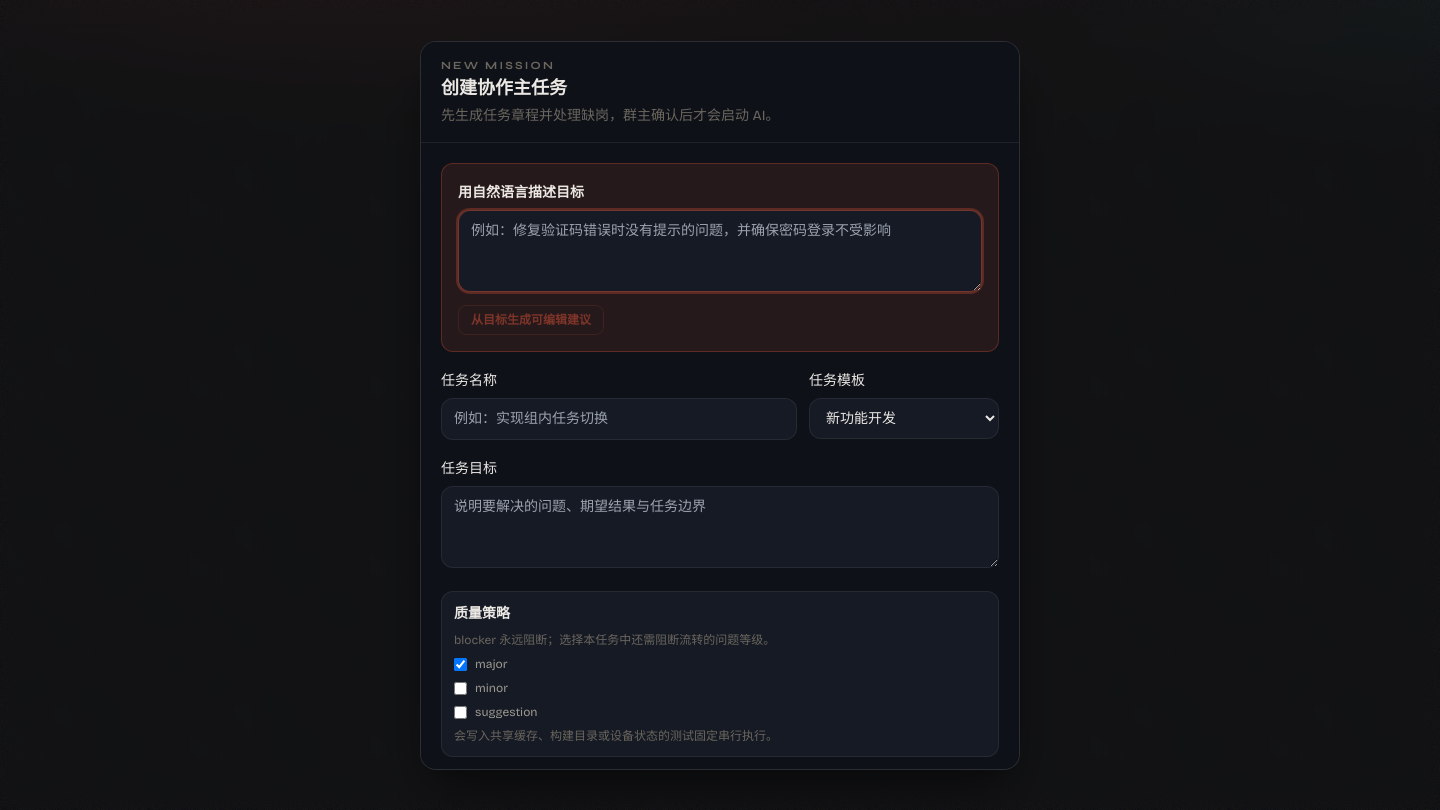
TaskSessionCreateModal mission charter › requires a documented owner decision for a missing role
Step 1. Type "测试缺岗任务" into the field labelled "任务名称" → [619, 419], box [441,398,797,440]
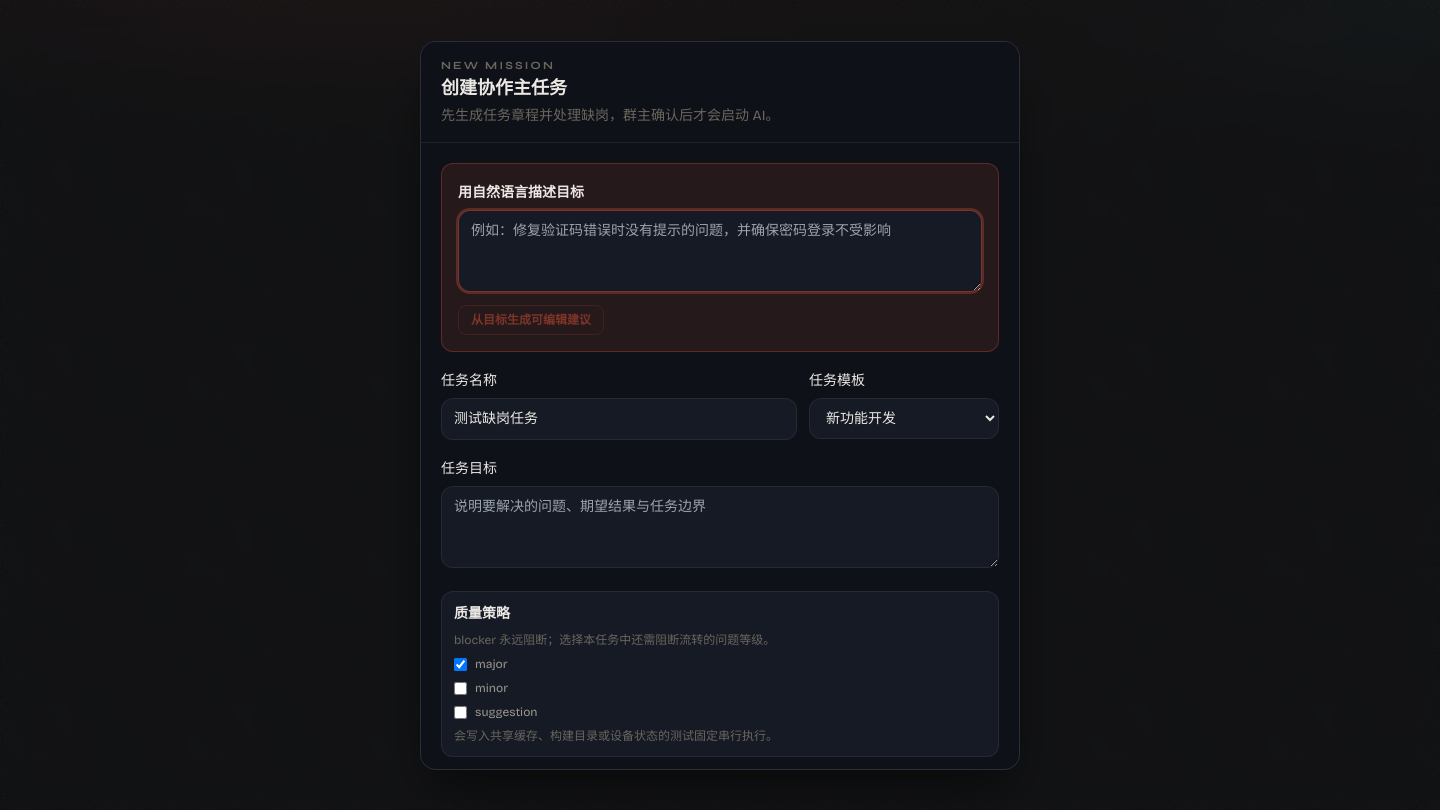
Step 2. Type "验证缺岗决策" into the text box labelled "任务目标" → [720, 527], box [441,486,999,568]
(page scrolled)
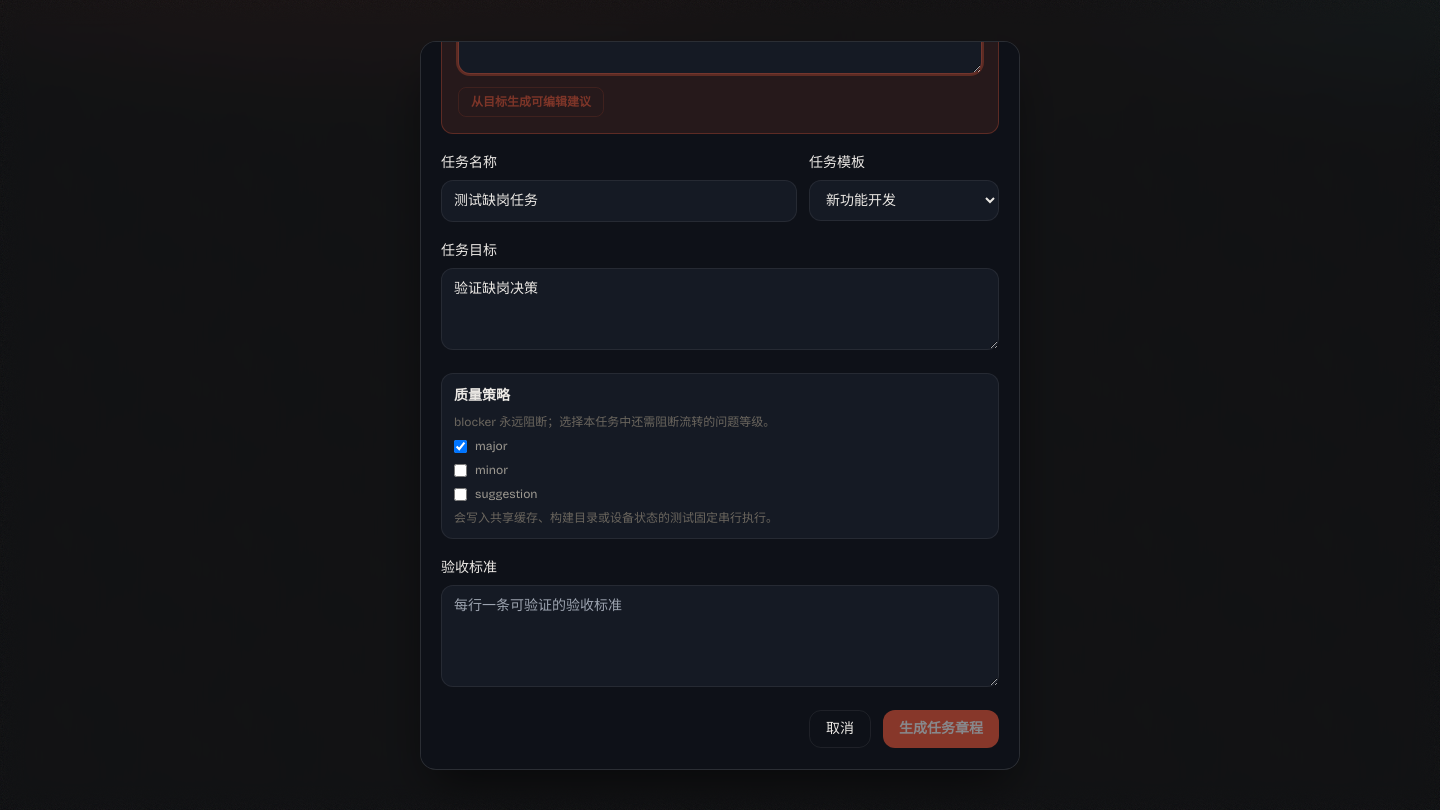
Step 3. Type "决策留痕" into the text box labelled "验收标准" → [720, 636], box [441,585,999,687]
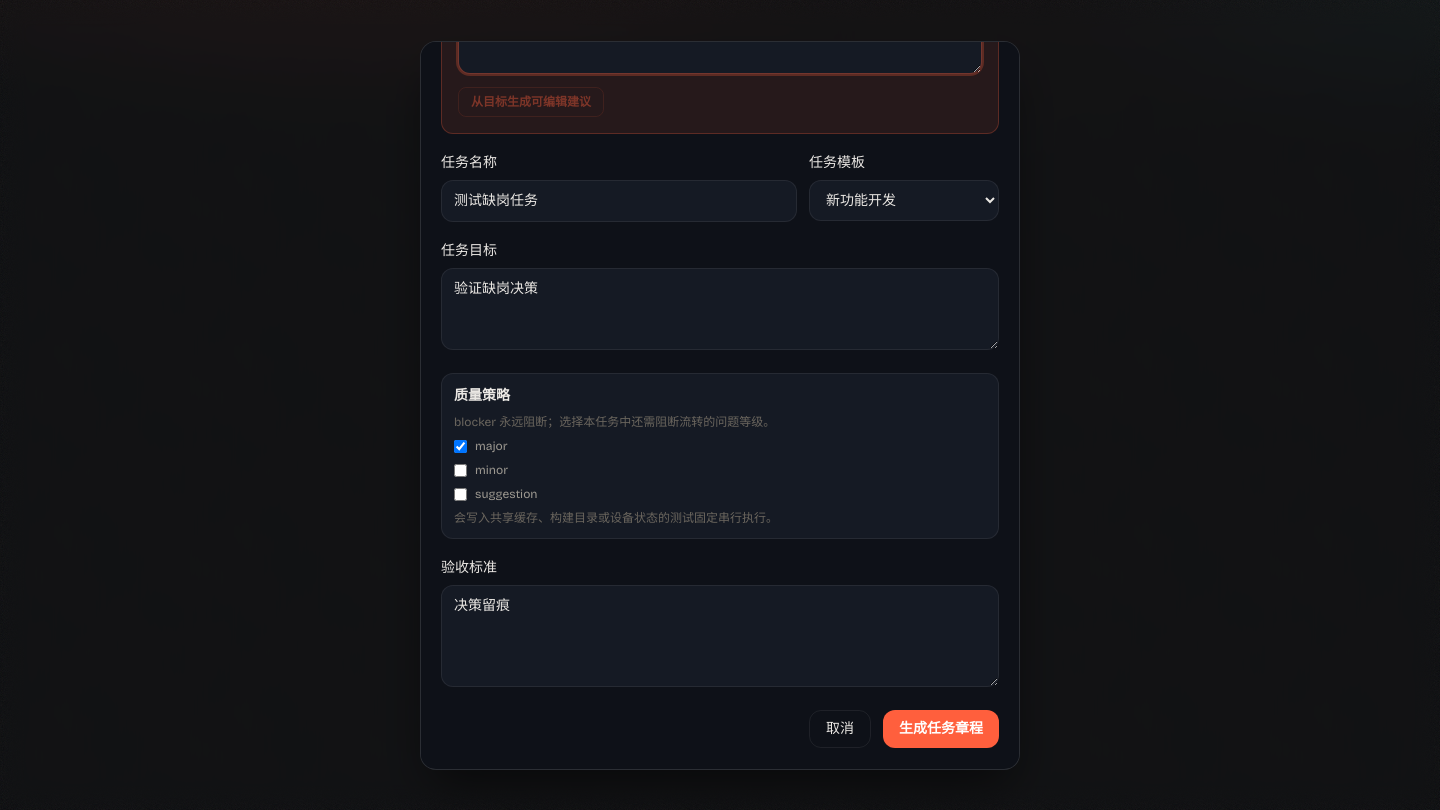
Step 4. Click the button "生成任务章程" → [941, 729], box [883,710,999,748]
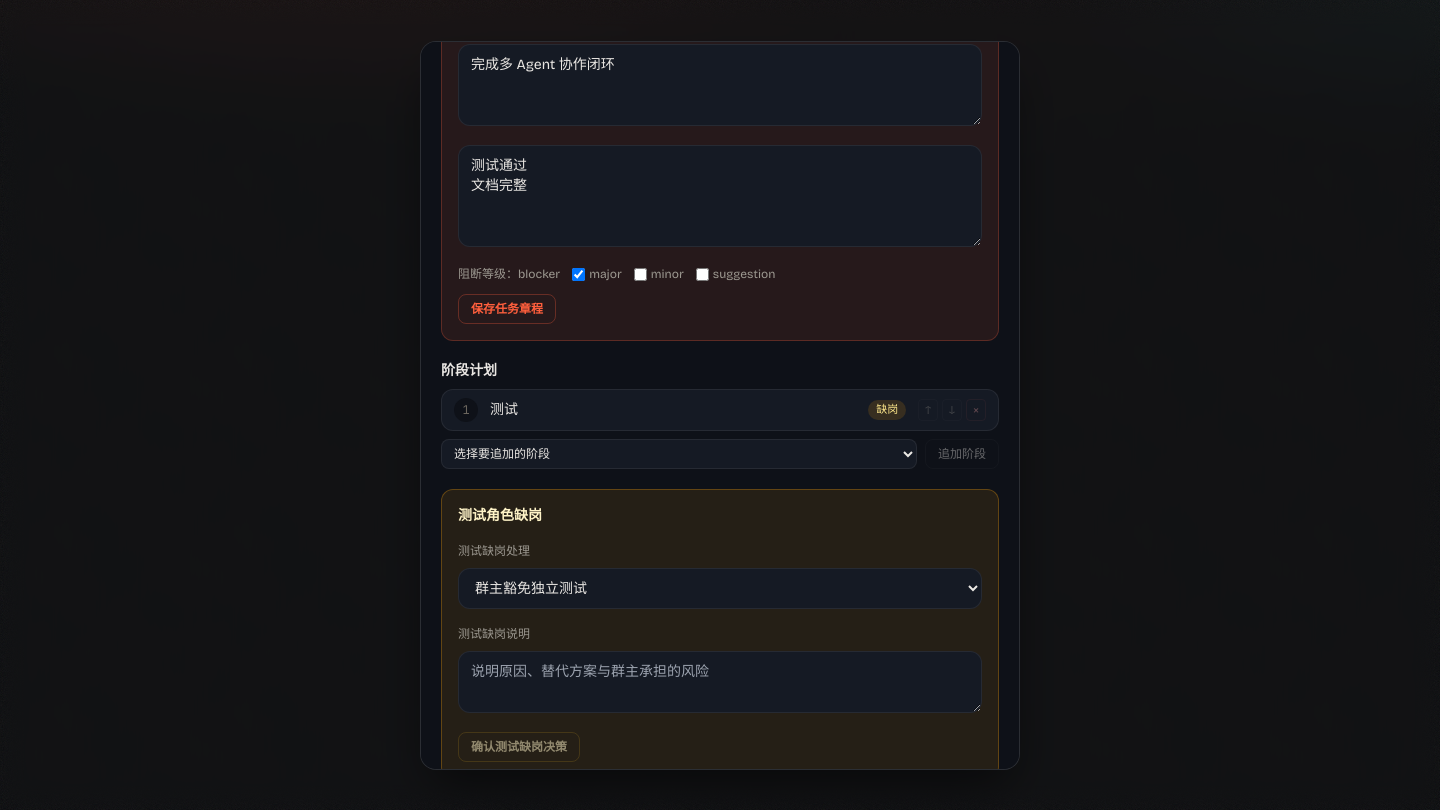
Expected: the text "测试角色缺岗" is shown, [458,507,542,524]
Step 5. Select "群主豁免独立测试" in the dropdown labelled "测试缺岗处理" → [720, 588], box [458,568,982,609]
Step 6. Type "由群主承担最终验收风险" into the text box labelled "测试缺岗说明" → [720, 682], box [458,651,982,713]
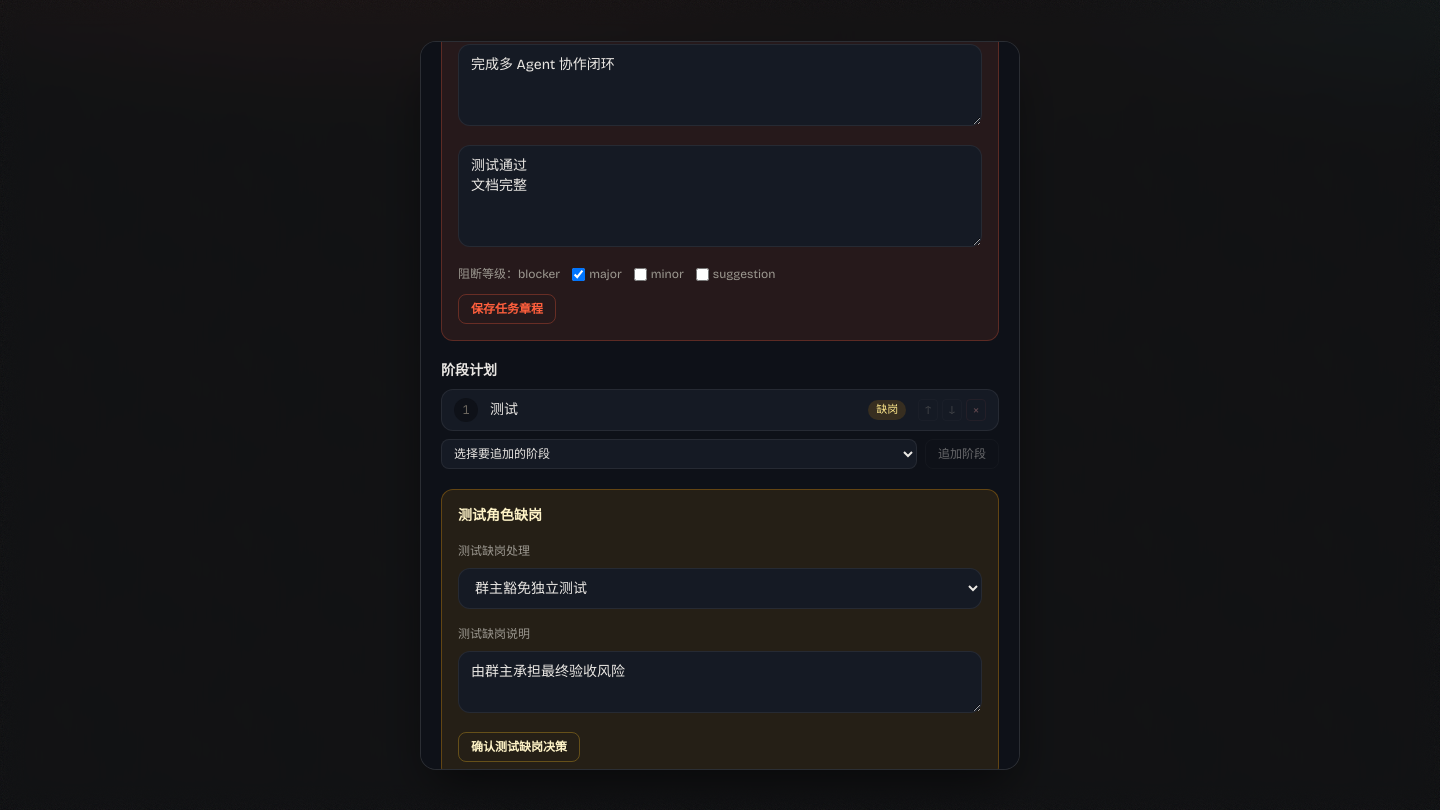
Step 7. Click the button "确认测试缺岗决策" → [519, 747], box [458,732,580,762]
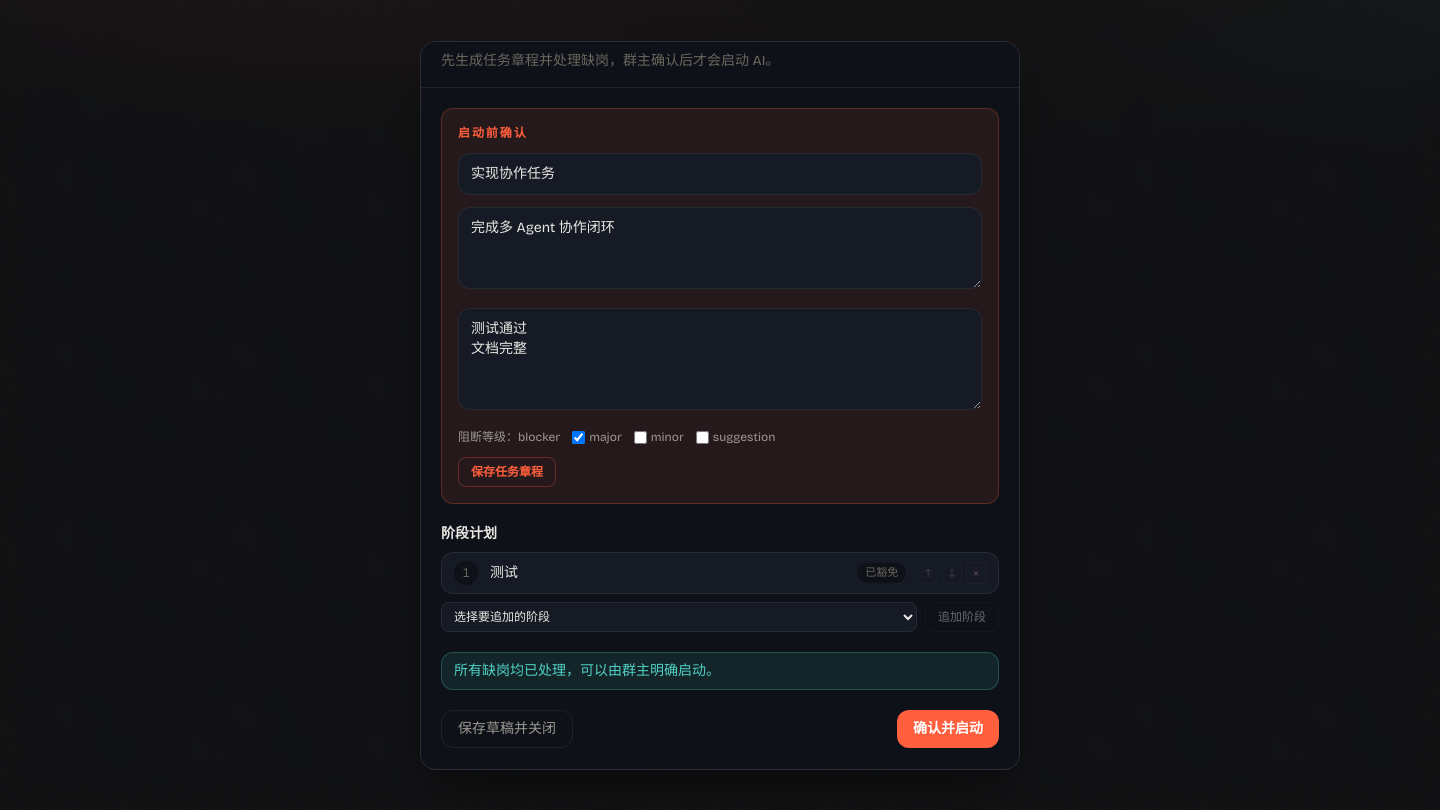
Expected: the text "所有缺岗均已处理，可以由群主明确启动。" is shown, [441,652,999,690]
